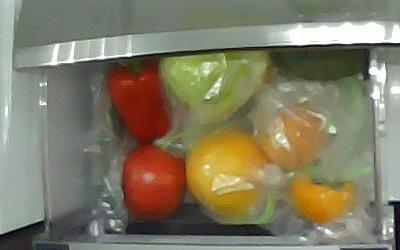apple: (120, 147, 186, 219)
grapefruit_vinyl: (187, 132, 269, 218)
lettuce_vinyl: (162, 50, 267, 116)
paprika: (105, 57, 173, 143)
peach_vinyl: (260, 105, 329, 169)
persimmon_vinyl: (289, 174, 355, 224)
